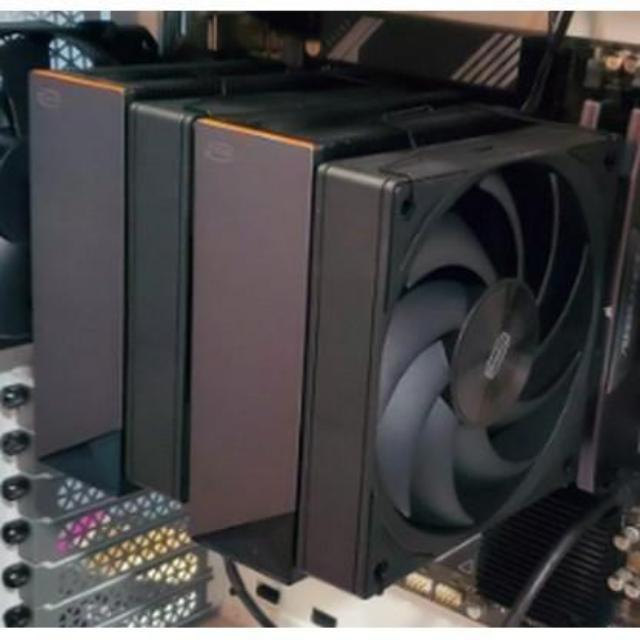CPU_Fan: (23, 49, 606, 598)
